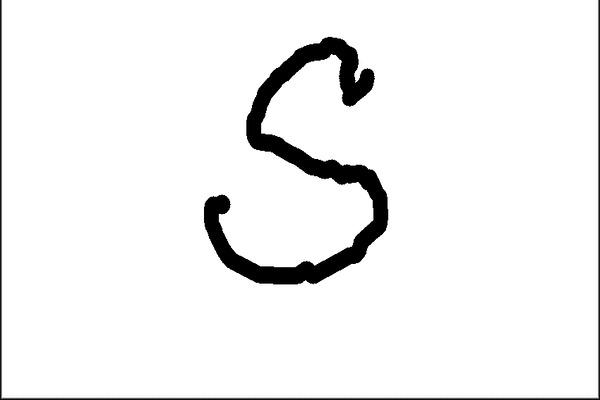S: (196, 33, 395, 289)
